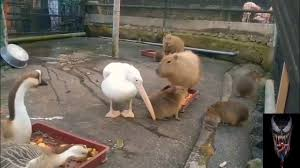capivara: (157, 51, 200, 89), (147, 87, 188, 121), (205, 100, 251, 128), (237, 68, 264, 100), (161, 32, 185, 53)
